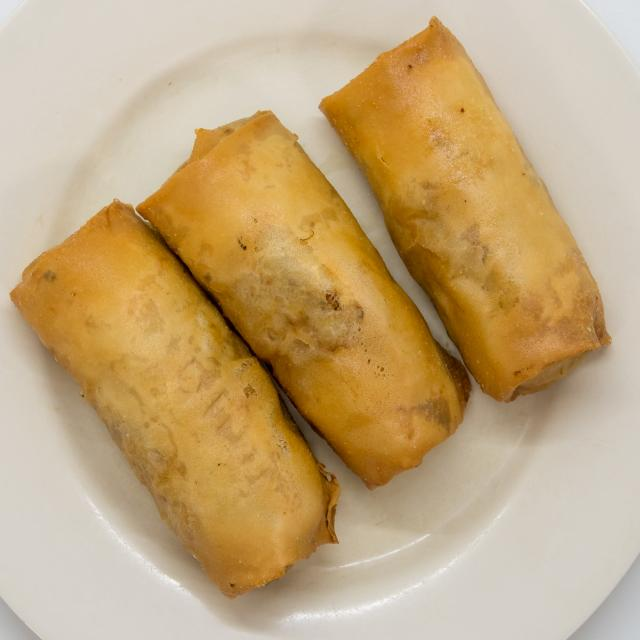Lumpia-Semarang: (16, 14, 612, 612)
